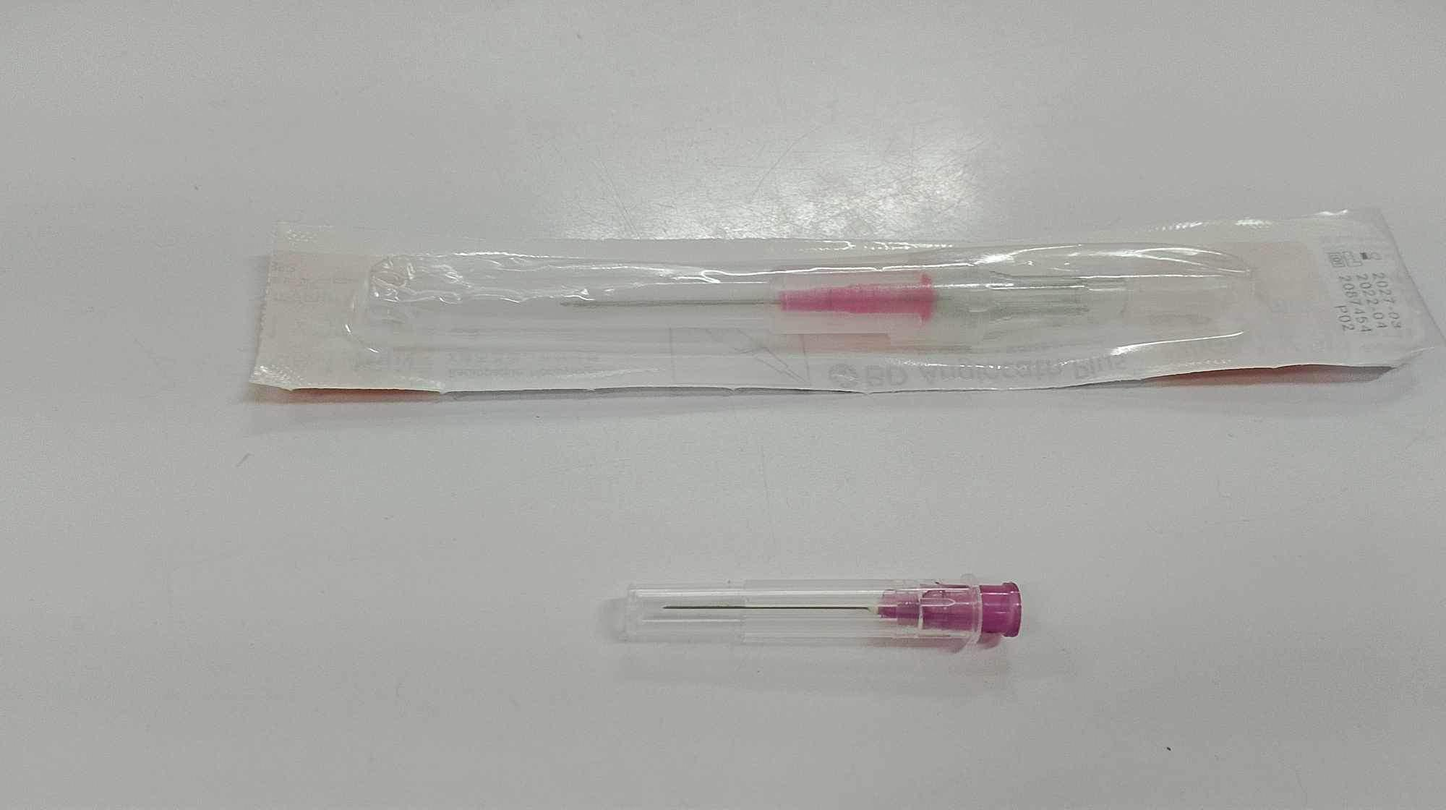General: (247, 203, 1439, 400), (870, 578, 1024, 644)
Sharps: (615, 577, 1023, 649)
